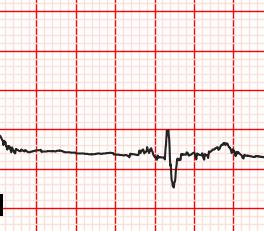Poor R Progression: (160, 128, 175, 161)
ST Depression: (160, 150, 186, 191)
